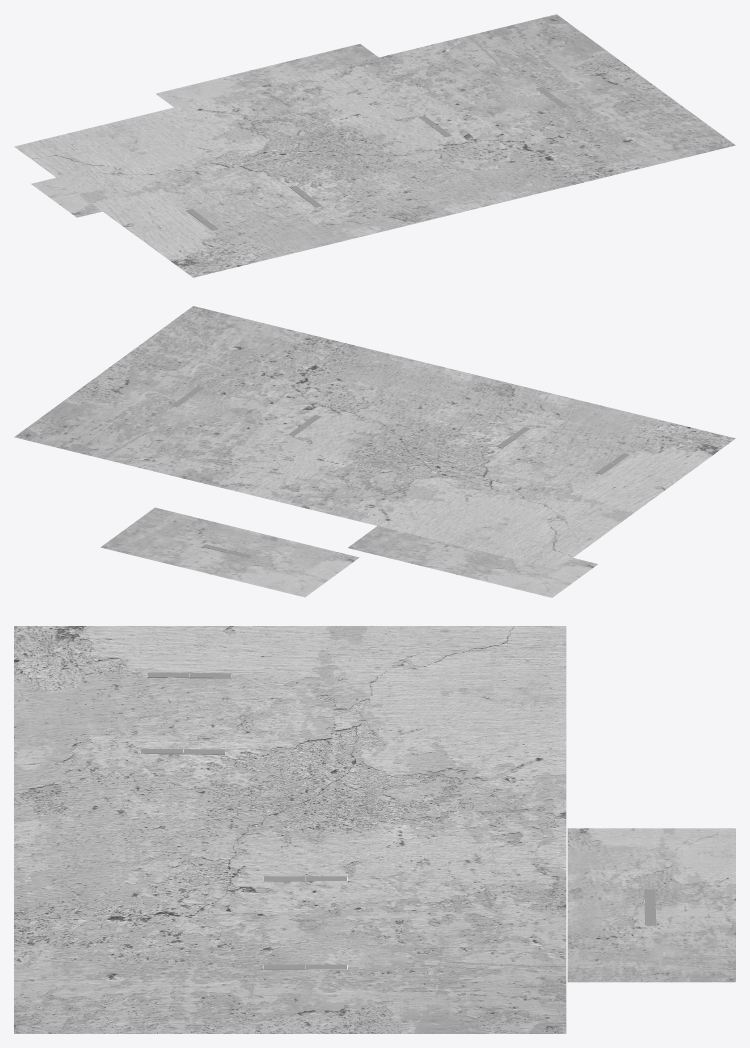
File: tran nha.glb
3 views of the same model, one above another, from view 1: azimuth 30°, elevation 25°; view 2: azimuth 150°, elevation 25°; view 3: azimuth 270°, elevation 25° (orthographic). The views are drawn at different scales.
Parts seen in each view (by area): view 1: Plane, Plane.007, Plane.008; view 2: Plane, Plane.007, Plane.008; view 3: Plane, Plane.007.
Boxes of the visible parts, x1=… form: Plane: x1=14, y1=14, x2=735, y2=277; Plane.007: x1=156, y1=44, x2=378, y2=107; Plane.008: x1=31, y1=177, x2=102, y2=217; Plane: x1=14, y1=306, x2=735, y2=569; Plane.007: x1=100, y1=507, x2=359, y2=597; Plane.008: x1=348, y1=526, x2=597, y2=597; Plane: x1=14, y1=626, x2=566, y2=1033; Plane.007: x1=567, y1=828, x2=735, y2=982.
Size of the model in its own units: 15.62 by 1.06 by 11.68.
8 materials, 8 textured.
